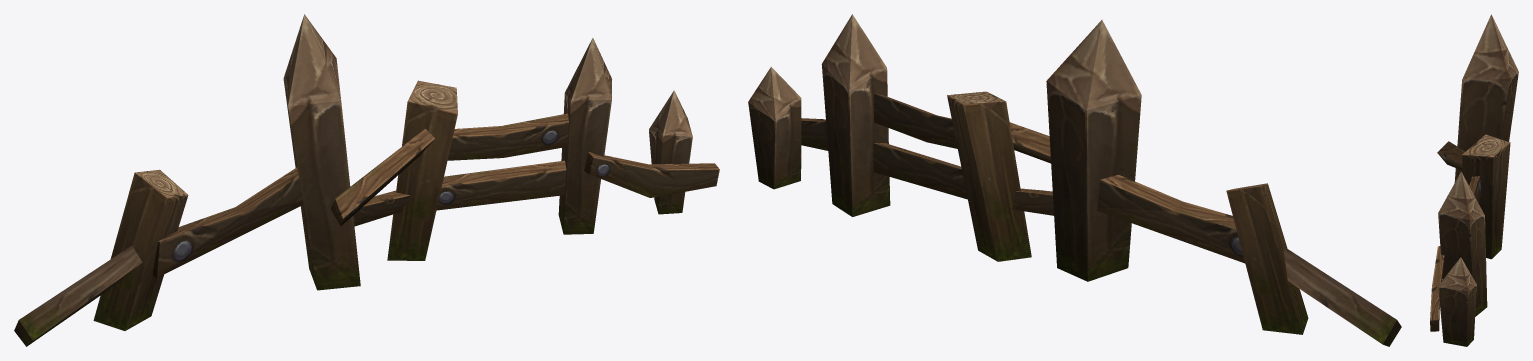
The model's file is weilan.FBX.
3 renders of one model, left to right at view 1: azimuth 30°, elevation 25°; view 2: azimuth 150°, elevation 25°; view 3: azimuth 270°, elevation 25°, orthographic. The views are drawn at different scales.
Visible parts, largest first — view 1: Object001; view 2: Object001; view 3: Object001.
Boxes of the visible parts, x1,y1,x2,y2 form: Object001: (14, 14, 719, 346); Object001: (748, 14, 1401, 346); Object001: (1430, 14, 1518, 346).
Bounding box in the file's own units: 3.87 × 1.45 × 0.585.
